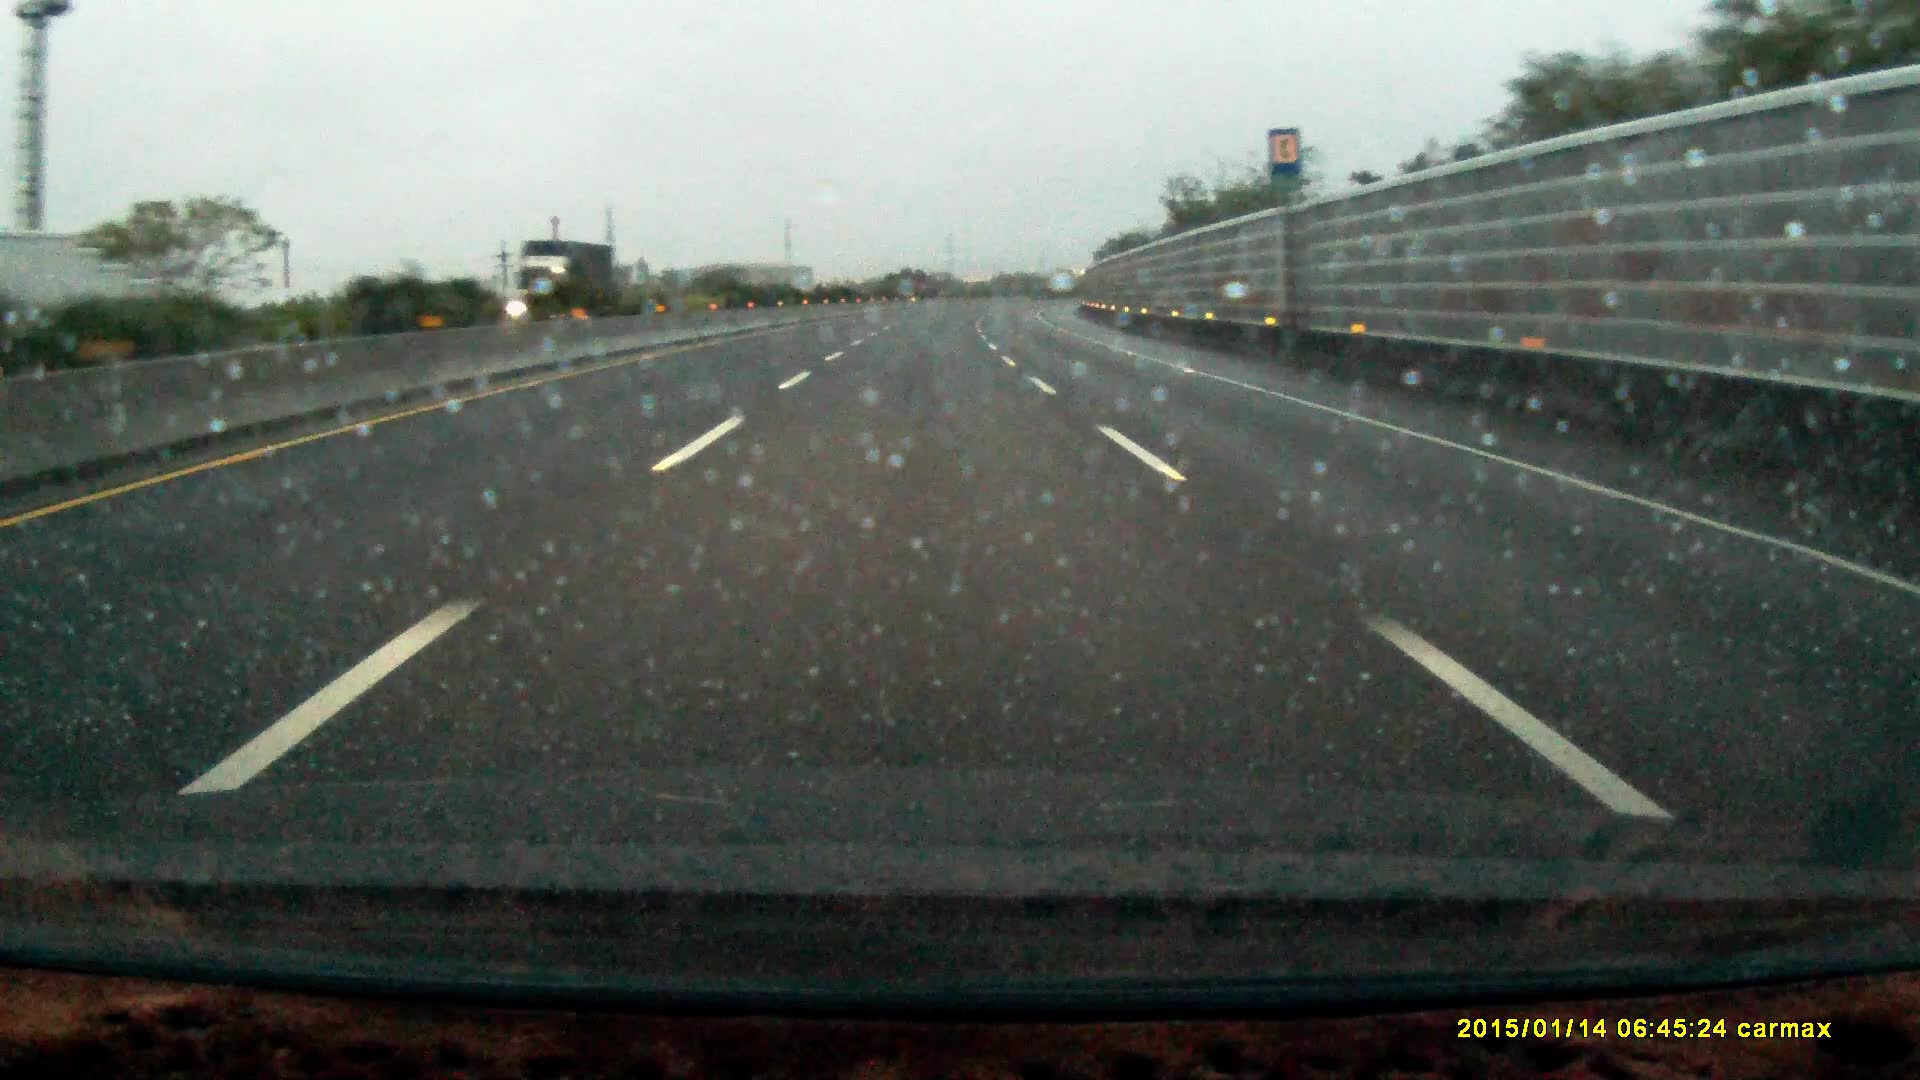vehicle: (518, 240, 615, 322)
